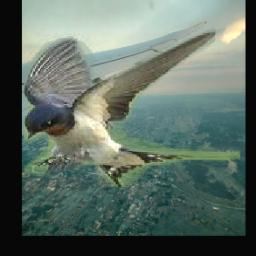Swallow: (24, 27, 240, 188)
